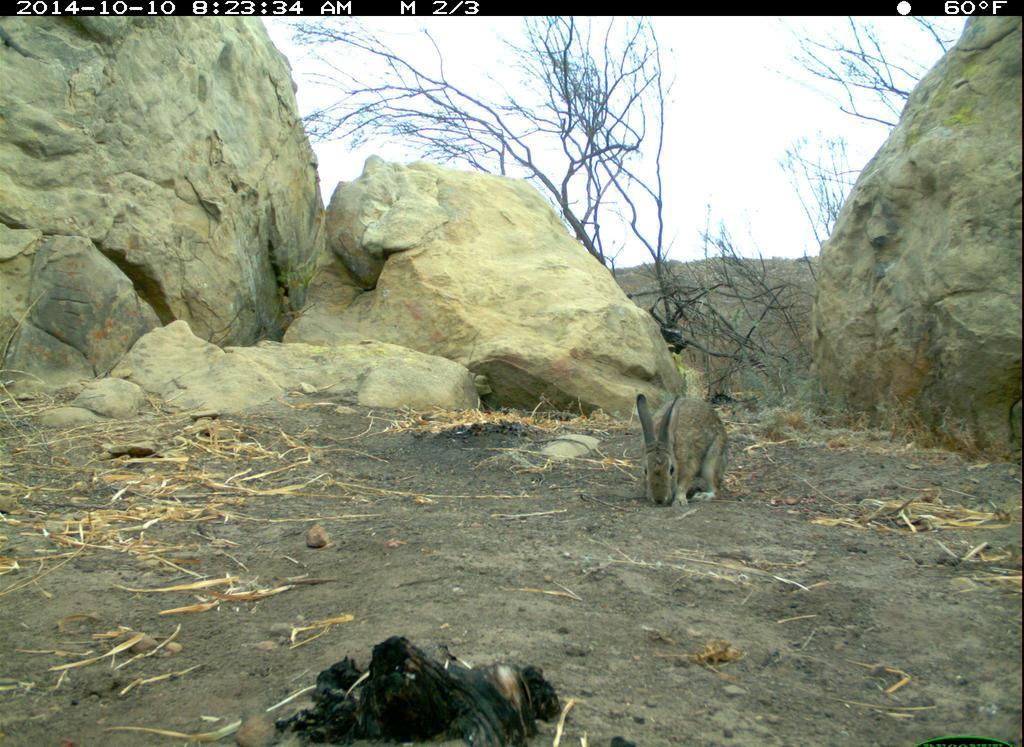rabbit: (630, 381, 735, 518)
